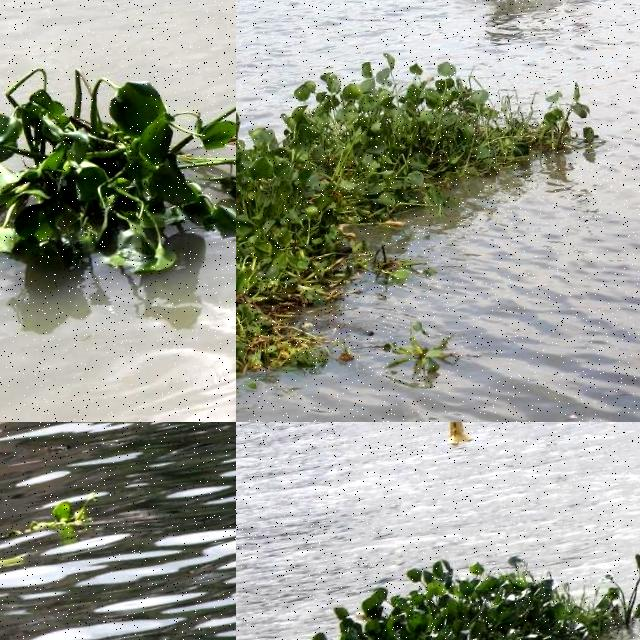water-hyacinth: (237, 23, 623, 413), (1, 25, 237, 314), (237, 525, 640, 640), (373, 307, 471, 391), (17, 487, 108, 546), (1, 524, 35, 571)
